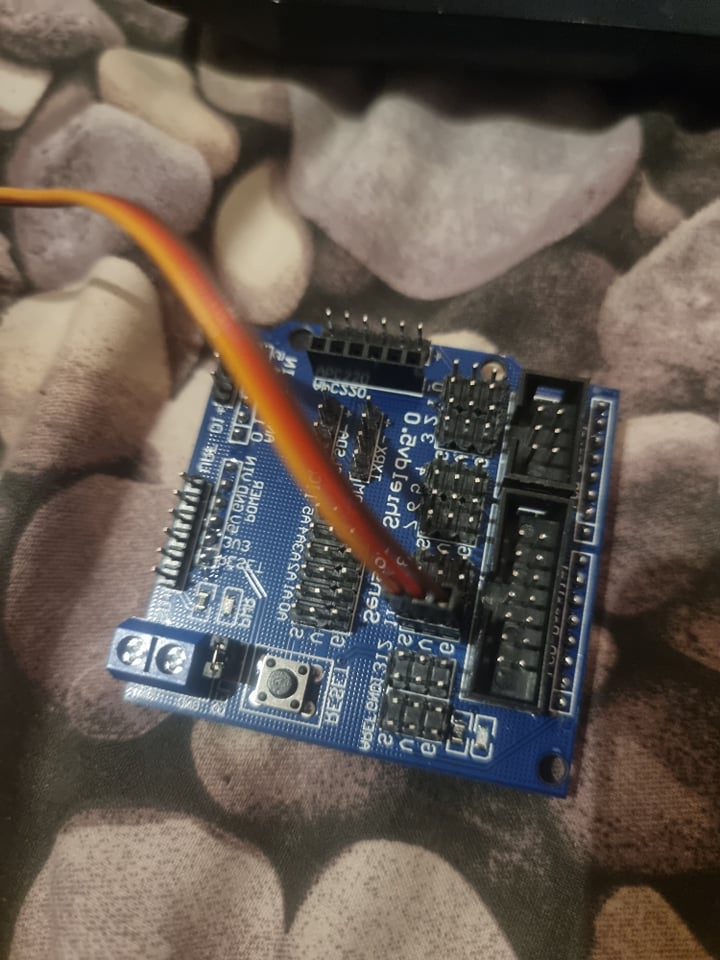5V EXPANSION: (103, 304, 624, 793)
